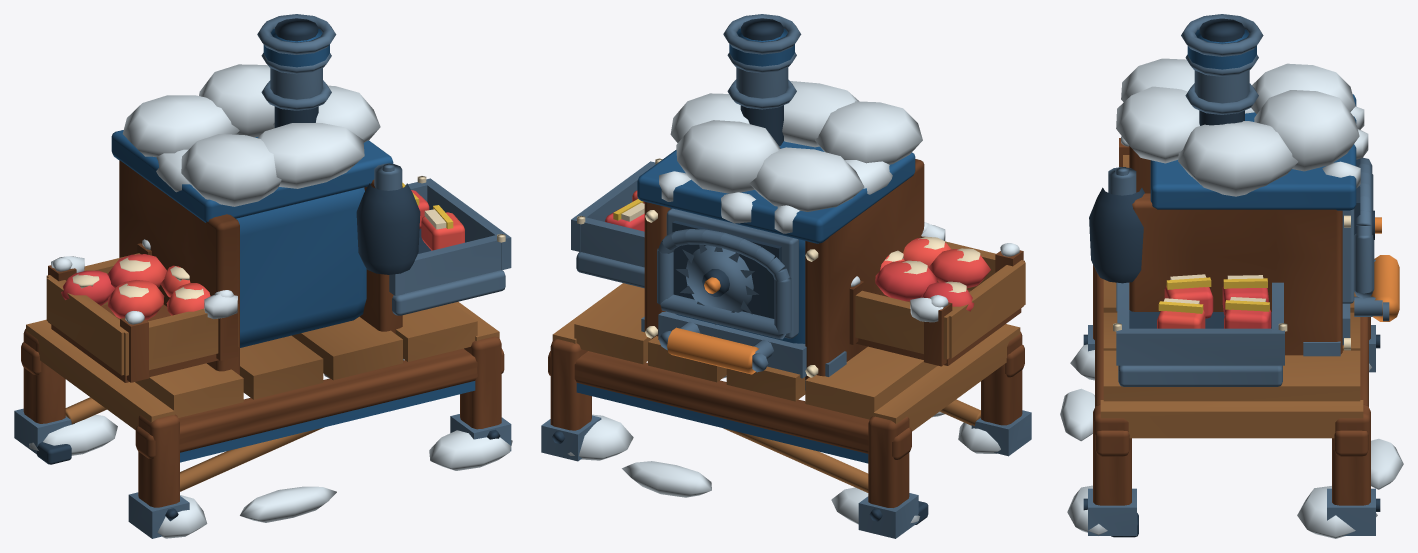
Rendered from cooker_processor.glb.
3 views of the same model, side by side, from view 1: azimuth 30°, elevation 25°; view 2: azimuth 150°, elevation 25°; view 3: azimuth 270°, elevation 25° (orthographic). The views are drawn at different scales.
Visible parts, largest first — view 1: cooker_processor; view 2: cooker_processor; view 3: cooker_processor.
Part boxes in pixels (x1,y1,x2,y2): cooker_processor: (14, 14, 512, 538); cooker_processor: (541, 14, 1031, 538); cooker_processor: (1060, 14, 1403, 538).
Size of the model in its own units: 2.39 by 2.47 by 1.76.
